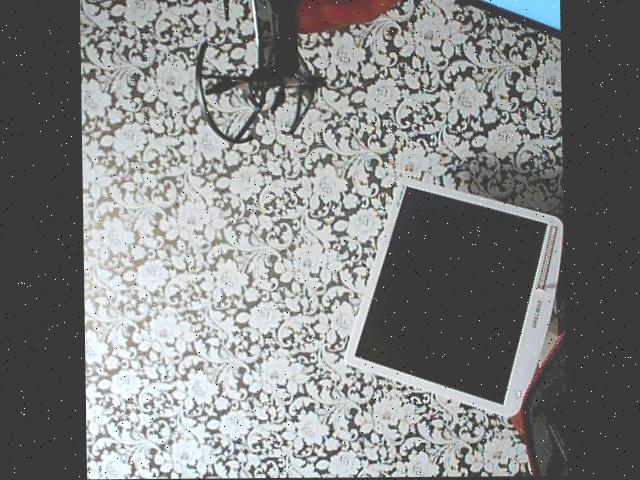drone: (153, 0, 357, 143)
